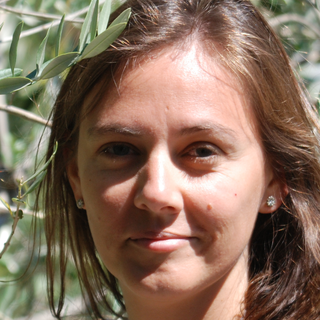eye: (180, 140, 225, 167), (97, 140, 144, 164)
